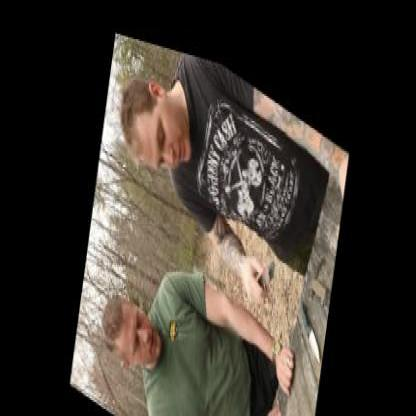knife: (240, 217, 278, 306)
